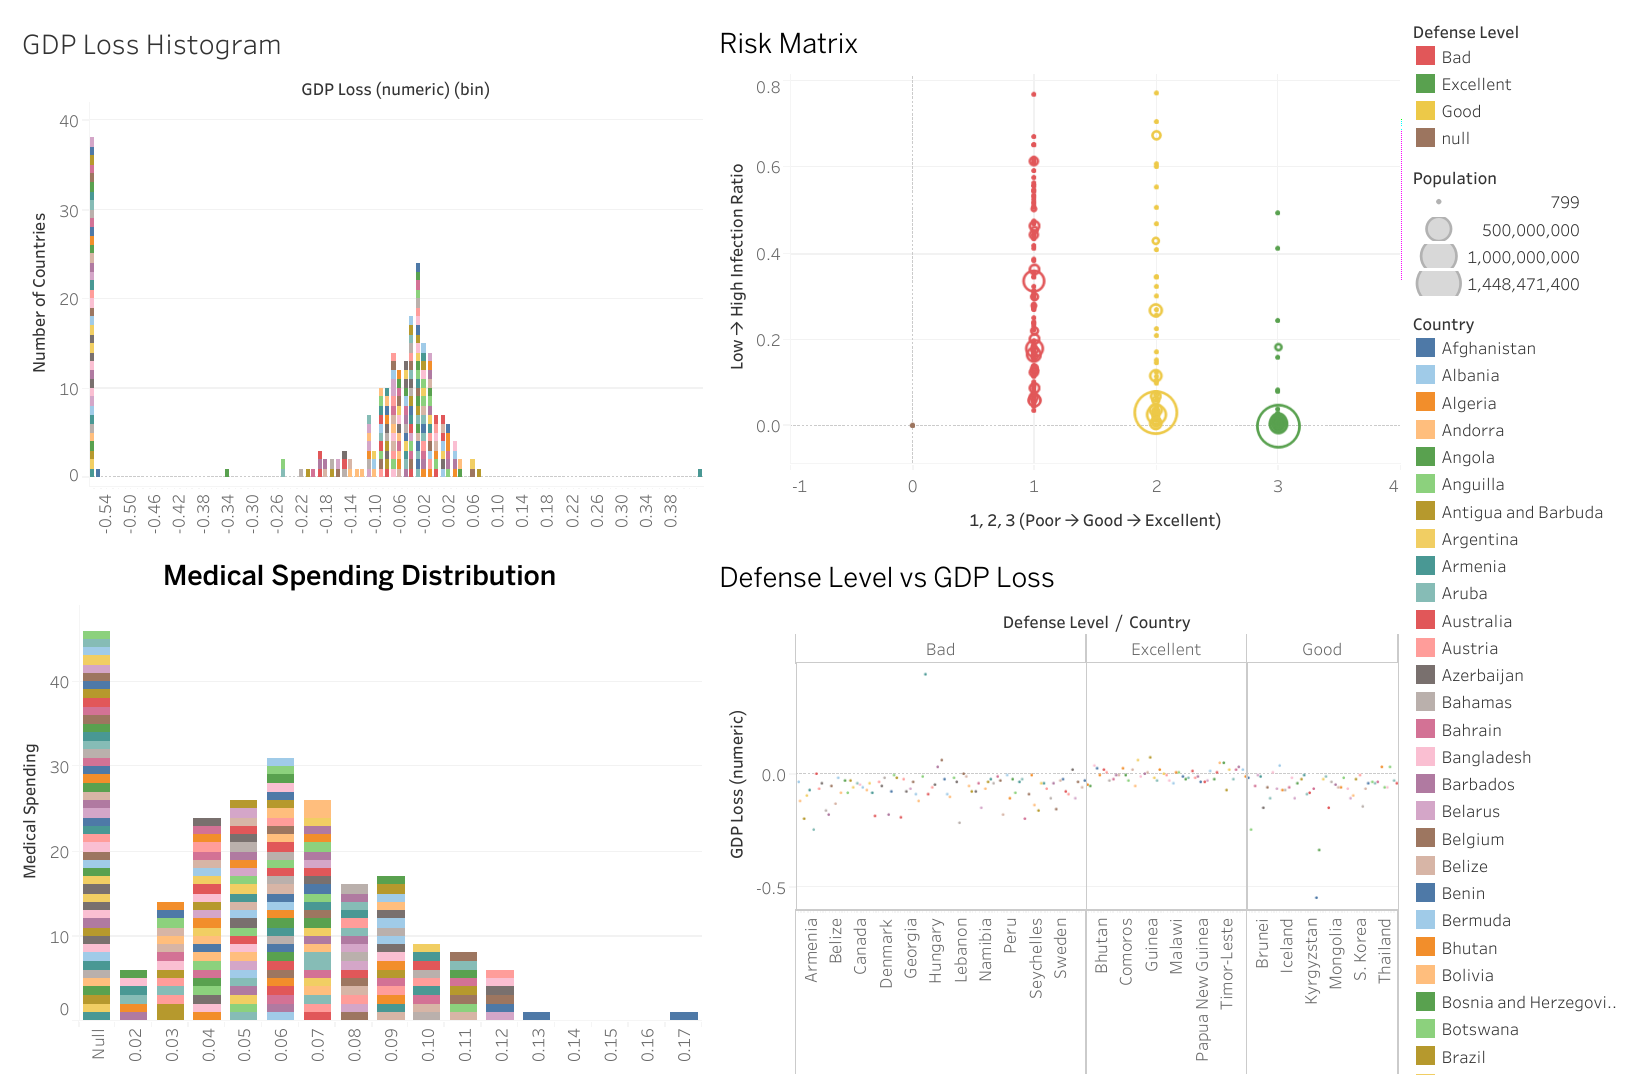

Layout of this report page (visuals, bound fields, positions):
{"tool":"tableau","page":{"name":"Dashboard 2","canvas":[1000,1000],"units":"permille","ordinal":1},"visuals":[{"type":"worksheet","title":"GDP Loss Histogram","mark":"Automatic","rows":["Calculation_616993156950073346"],"cols":["GDP Loss (numeric) (bin)"],"box":[6.7,10,426.7,490]},{"type":"worksheet","title":"Risk Matrix","mark":"Automatic","rows":["Calculation_1016687623541534720"],"cols":["Calculation_1016687623543259139"],"box":[433.3,10,426.7,490]},{"type":"legend","title":"Risk Matrix","param":"[federated.1mu3hx71llq1bm1g1kn7s1elw3nk].[none:Defense Level:nk]","box":[860,10,133.3,142.2]},{"type":"legend","title":"Risk Matrix","param":"[federated.1mu3hx71llq1bm1g1kn7s1elw3nk].[sum:Population:qk]","box":[860,152.1,133.3,142.2]},{"type":"legend","title":"Defense Level vs GDP Loss","param":"[federated.1mu3hx71llq1bm1g1kn7s1elw3nk].[none:Country:nk]","box":[860,294.3,133.3,695.7]},{"type":"worksheet","title":"Medical Spending Distribution avg","mark":"Automatic","rows":["Calculation_616993156950073346"],"cols":["Medical Spending (bin)"],"box":[6.7,500,426.7,490]},{"type":"worksheet","title":"Defense Level vs GDP Loss","mark":"Shape","rows":["Calculation_616993156965224452"],"cols":["Defense Level","Country"],"box":[433.3,500,426.7,490]}]}

Visuals, with their boxes on the dashboard's canvas, which has no fixed pixel size, in thousandths of its width and height (x1, y1, x2, y2). These are canvas units, not pixel positions in the 1634x1090 screenshot, which may show the page scaled, cropped or inside an application window:
"GDP Loss Histogram" worksheet: crop(7, 10, 433, 500)
"Risk Matrix" worksheet: crop(433, 10, 860, 500)
"Risk Matrix" legend: crop(860, 10, 993, 152)
"Risk Matrix" legend: crop(860, 152, 993, 294)
"Defense Level vs GDP Loss" legend: crop(860, 294, 993, 990)
"Medical Spending Distribution avg" worksheet: crop(7, 500, 433, 990)
"Defense Level vs GDP Loss" worksheet (Shape marks): crop(433, 500, 860, 990)
